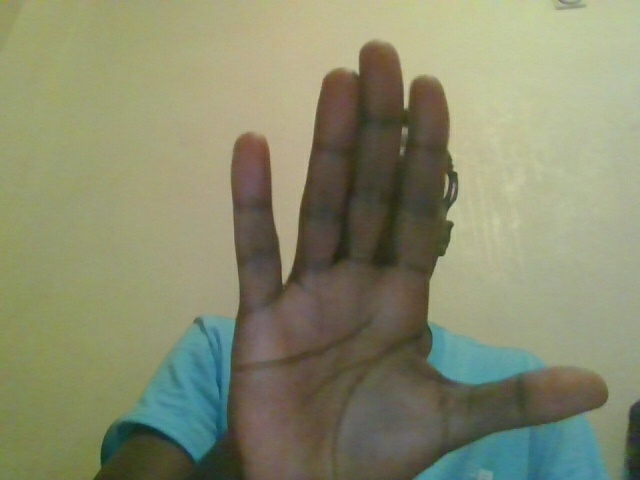hello: (204, 23, 629, 477)
